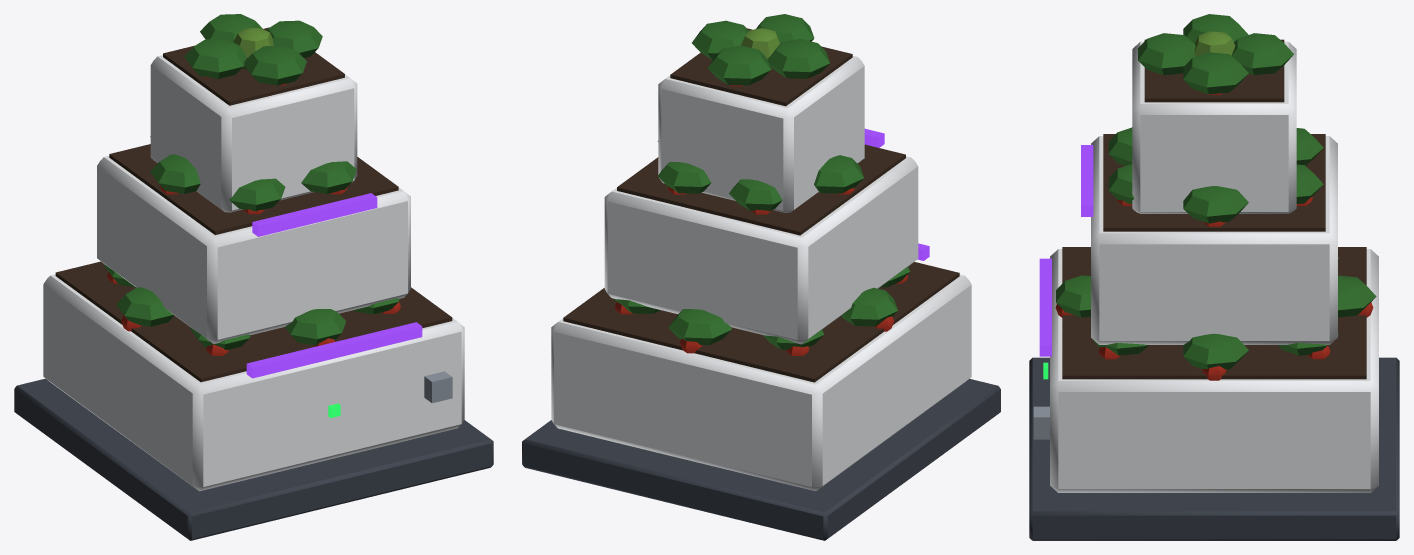
Rendered from planter_strawberry_tiered_planter.glb.
The picture shows the model from 3 angles, left to right: view 1: azimuth 30°, elevation 25°; view 2: azimuth 150°, elevation 25°; view 3: azimuth 270°, elevation 25°; orthographic projection. The views are drawn at different scales.
Parts seen in each view (by area): view 1: planter_strawberry_tiered_planter; view 2: planter_strawberry_tiered_planter; view 3: planter_strawberry_tiered_planter.
Boxes of the visible parts, bbox=[...] form: planter_strawberry_tiered_planter: bbox=[14, 14, 493, 540]; planter_strawberry_tiered_planter: bbox=[522, 14, 1000, 540]; planter_strawberry_tiered_planter: bbox=[1029, 14, 1399, 540].
Size of the model in its own units: 0.9 by 1.16 by 0.9.
